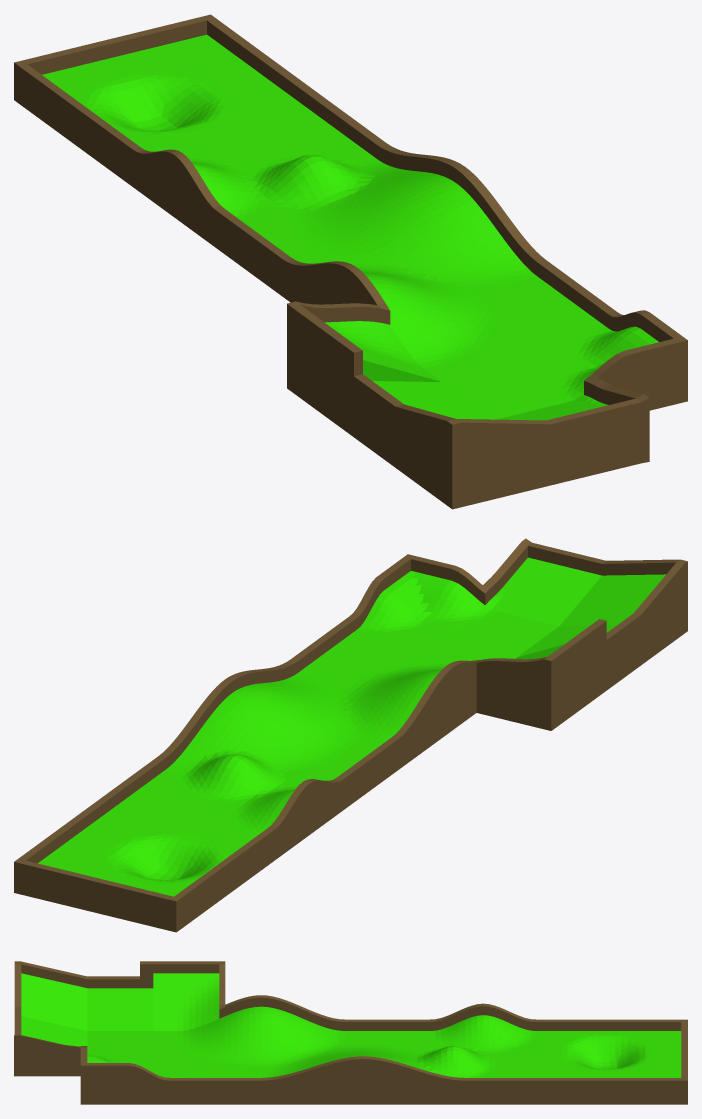
File: Complex Ground Test.fbx
3 renders of one model, top to bottom at view 1: azimuth 30°, elevation 25°; view 2: azimuth 150°, elevation 25°; view 3: azimuth 270°, elevation 25°, orthographic. The views are drawn at different scales.
Parts seen in each view (by area): view 1: Plane; view 2: Plane; view 3: Plane.
Part boxes in pixels (x1=…): Plane: x1=14, y1=14, x2=687, y2=509; Plane: x1=14, y1=538, x2=687, y2=932; Plane: x1=14, y1=961, x2=687, y2=1104.
Size of the model in its own units: 6400 by 1803 by 20418.
